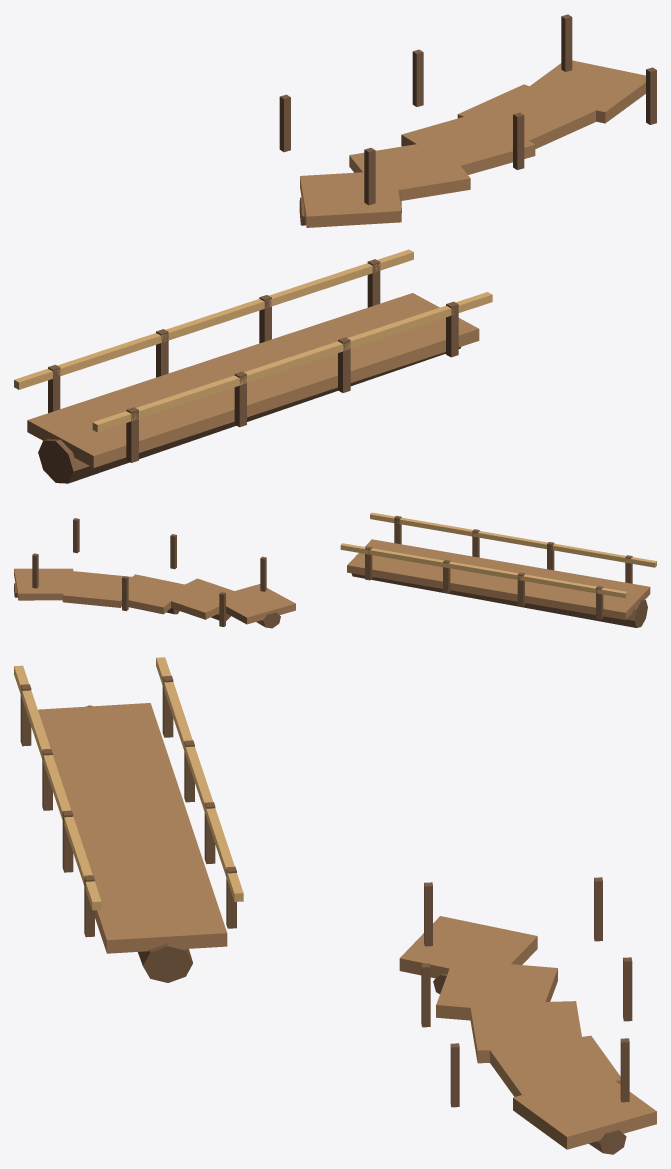
Rendered from thornveil_root_bridge.glb.
The picture shows the model from 3 angles, top to bottom: view 1: azimuth 30°, elevation 25°; view 2: azimuth 150°, elevation 25°; view 3: azimuth 270°, elevation 25°; orthographic projection. The views are drawn at different scales.
Visible parts, largest first — view 1: PREFAB_thornveil_root_bridge_00_SCENE_Architecture_MidRootBr, PREFAB_thornveil_root_bridge_01_SCENE_Architecture_BackCurve; view 2: PREFAB_thornveil_root_bridge_00_SCENE_Architecture_MidRootBr, PREFAB_thornveil_root_bridge_01_SCENE_Architecture_BackCurve; view 3: PREFAB_thornveil_root_bridge_00_SCENE_Architecture_MidRootBr, PREFAB_thornveil_root_bridge_01_SCENE_Architecture_BackCurve.
Part boxes in pixels (x1,y1,x2,y2): PREFAB_thornveil_root_bridge_00_SCENE_Architecture_MidRootBr: (14, 249, 492, 483); PREFAB_thornveil_root_bridge_01_SCENE_Architecture_BackCurve: (279, 14, 656, 227); PREFAB_thornveil_root_bridge_00_SCENE_Architecture_MidRootBr: (340, 512, 656, 627); PREFAB_thornveil_root_bridge_01_SCENE_Architecture_BackCurve: (14, 518, 295, 628); PREFAB_thornveil_root_bridge_00_SCENE_Architecture_MidRootBr: (14, 657, 243, 982); PREFAB_thornveil_root_bridge_01_SCENE_Architecture_BackCurve: (399, 877, 656, 1154).
Bounding box in the file's own units: 11.47 × 1.47 × 6.95.
